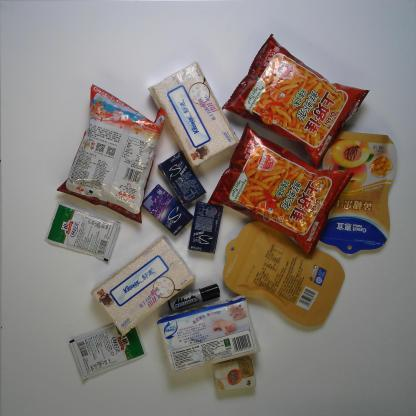Dried Fruit: (221, 220, 346, 327), (316, 130, 398, 256)
Gum: (157, 150, 208, 206), (141, 184, 194, 237), (188, 200, 224, 254)
Puffed Food: (221, 32, 371, 169), (206, 121, 355, 258), (55, 83, 167, 224)
Seasoner: (44, 200, 122, 264), (68, 319, 147, 382)
Stationery: (167, 282, 221, 312)
Tissue: (89, 234, 197, 337), (146, 61, 239, 170), (156, 294, 261, 374), (212, 356, 257, 393)
